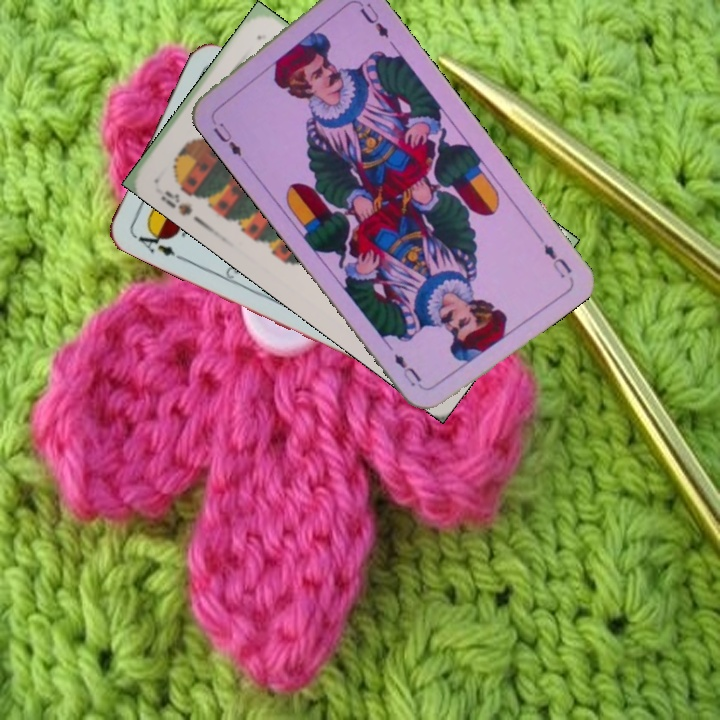EA: (129, 223, 178, 259)
EU: (207, 112, 244, 159), (539, 240, 575, 281)
S8: (156, 186, 195, 218)
